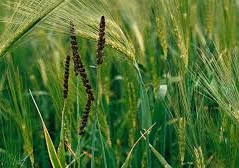Wheat Loose Smut: (55, 16, 109, 106)
